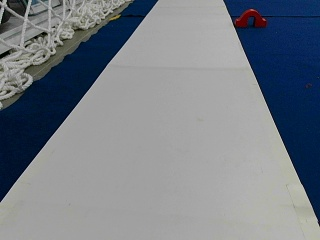bridge: (235, 9, 266, 26)
